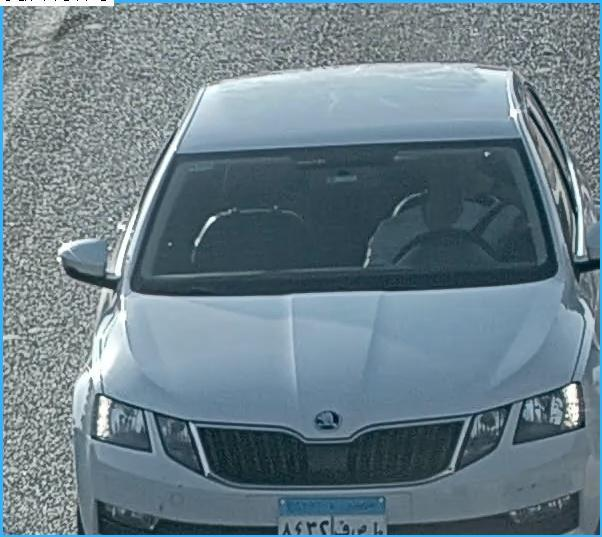windshield: (113, 129, 567, 293)
